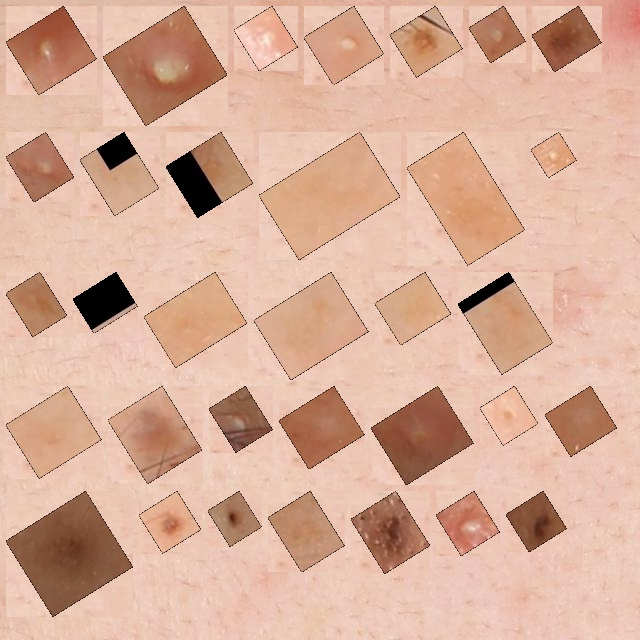hypertrophic_scar: (290, 397, 353, 458), (556, 397, 606, 445), (491, 397, 527, 434)
melasma: (270, 143, 389, 248), (418, 143, 514, 254), (265, 283, 357, 369), (155, 283, 236, 356), (469, 283, 542, 363), (17, 397, 90, 467), (177, 143, 242, 206), (91, 143, 148, 205), (279, 502, 333, 561), (386, 283, 440, 334), (17, 283, 56, 325), (84, 283, 126, 322)
nevus: (17, 502, 122, 605), (119, 397, 191, 472), (362, 502, 419, 562), (401, 17, 451, 66), (543, 17, 590, 61), (150, 502, 190, 542), (517, 502, 556, 541), (219, 502, 251, 535)
pustule: (114, 17, 216, 115), (382, 397, 462, 474), (17, 17, 85, 84), (315, 17, 373, 74), (17, 143, 63, 191), (245, 17, 287, 60), (447, 502, 489, 545), (220, 397, 261, 441), (480, 17, 514, 51), (542, 143, 565, 166)
